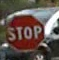stop: (4, 12, 44, 52)
